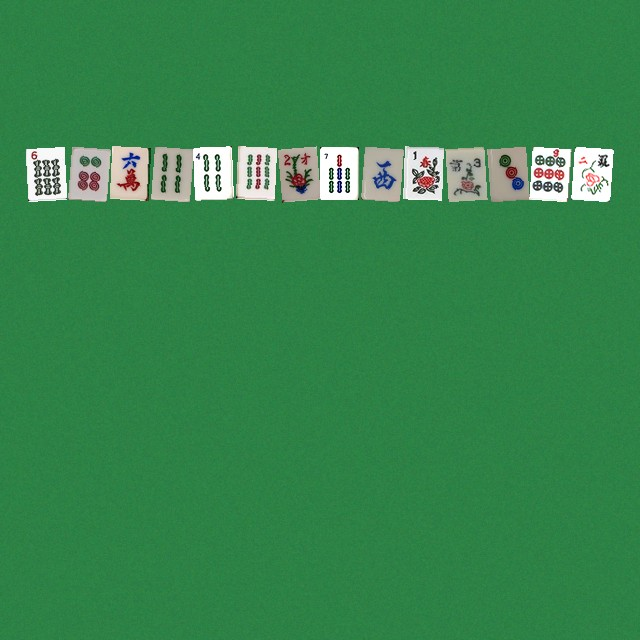tile: (25, 146, 64, 199), (67, 146, 106, 199), (109, 146, 148, 199), (151, 146, 190, 199), (193, 146, 232, 199), (235, 146, 274, 199), (277, 146, 316, 199), (319, 146, 358, 199), (361, 146, 400, 199), (403, 146, 442, 199), (445, 146, 484, 199), (487, 146, 526, 199), (529, 146, 568, 199), (571, 146, 610, 199)
